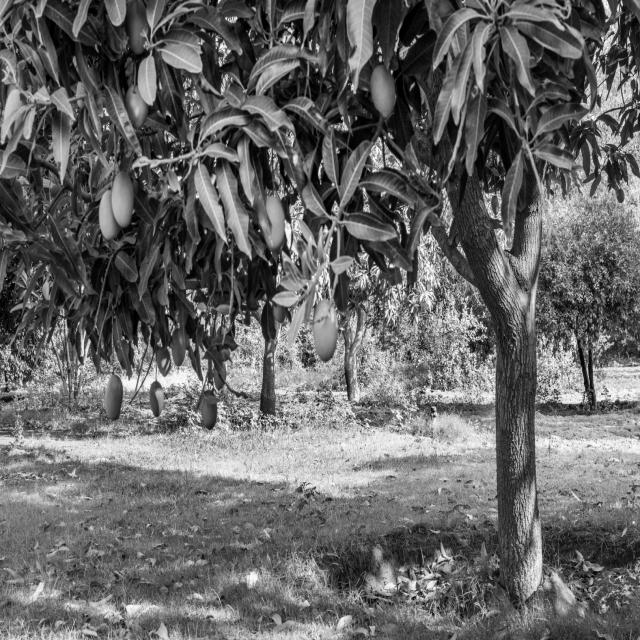Mango-Tree: (4, 0, 624, 520)
